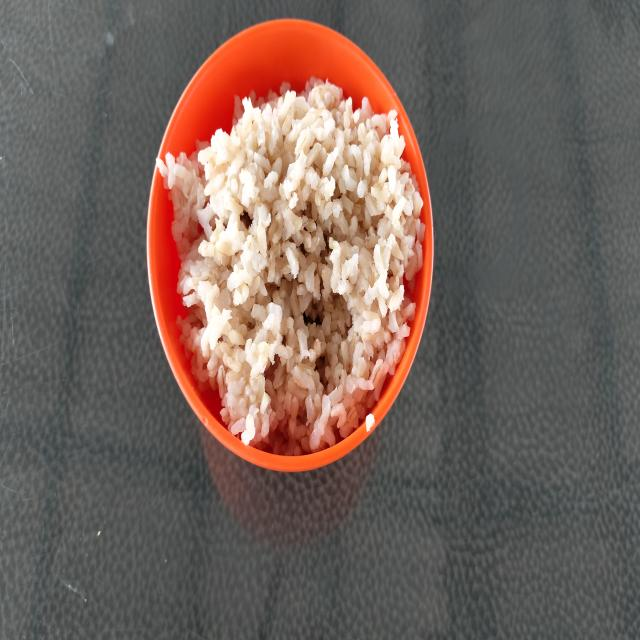brown-rice: (156, 80, 422, 454)
